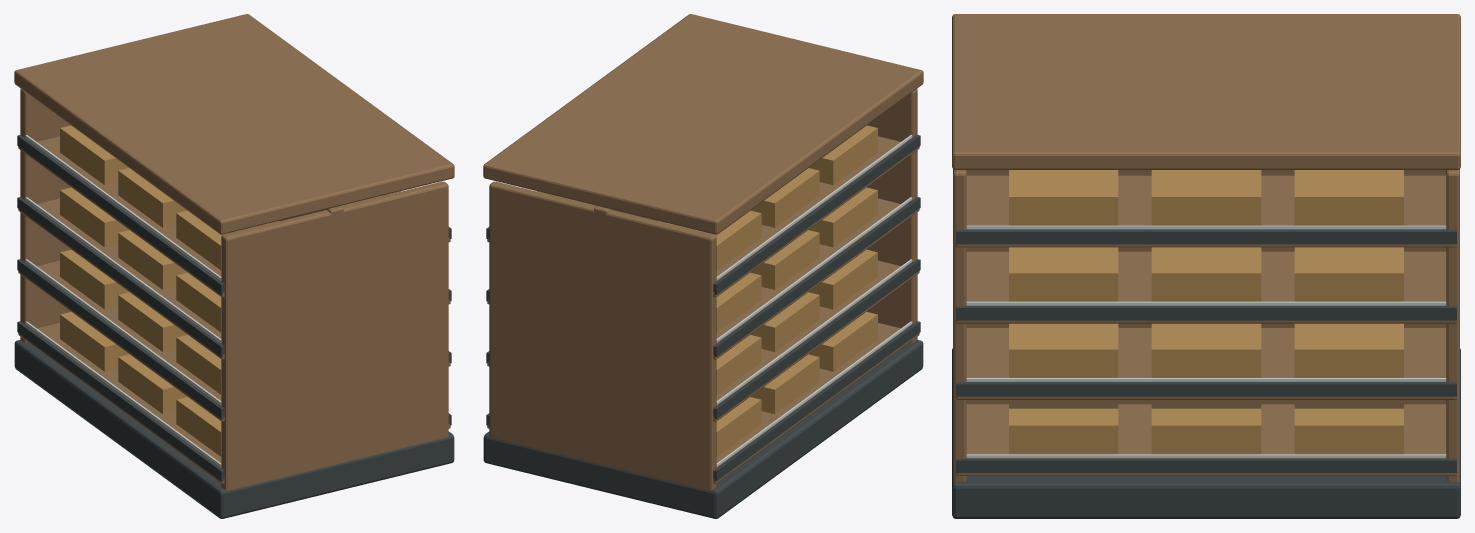
File: bakery-l0.glb
3 views of the same model, side by side, from view 1: azimuth 30°, elevation 25°; view 2: azimuth 150°, elevation 25°; view 3: azimuth 270°, elevation 25° (orthographic). The views are drawn at different scales.
Parts seen in each view (by area): view 1: bakery-l0_fixture_Oiled warm oak, bakery-l0_fixture_Powder-coated graphite, bakery-l0_fixture_bread, bakery-l0_fixture_Refrigerator enamel; view 2: bakery-l0_fixture_Oiled warm oak, bakery-l0_fixture_Powder-coated graphite, bakery-l0_fixture_bread, bakery-l0_fixture_Refrigerator enamel; view 3: bakery-l0_fixture_Oiled warm oak, bakery-l0_fixture_bread, bakery-l0_fixture_Powder-coated graphite, bakery-l0_fixture_Refrigerator enamel, bakery-l0_fixture_Oiled warm oak.001.
Part boxes in pixels (left/top/right/bottom): bakery-l0_fixture_Oiled warm oak: left=14, top=14, right=454, bottom=490; bakery-l0_fixture_Powder-coated graphite: left=14, top=135, right=454, bottom=518; bakery-l0_fixture_bread: left=60, top=125, right=397, bottom=456; bakery-l0_fixture_Refrigerator enamel: left=25, top=135, right=399, bottom=466; bakery-l0_fixture_Oiled warm oak: left=483, top=14, right=923, bottom=490; bakery-l0_fixture_Powder-coated graphite: left=483, top=135, right=923, bottom=518; bakery-l0_fixture_bread: left=540, top=125, right=877, bottom=456; bakery-l0_fixture_Refrigerator enamel: left=538, top=135, right=912, bottom=466; bakery-l0_fixture_Oiled warm oak: left=952, top=14, right=1460, bottom=481; bakery-l0_fixture_bread: left=1009, top=170, right=1403, bottom=454; bakery-l0_fixture_Powder-coated graphite: left=952, top=229, right=1460, bottom=518; bakery-l0_fixture_Refrigerator enamel: left=966, top=225, right=1446, bottom=457; bakery-l0_fixture_Oiled warm oak.001: left=1009, top=400, right=1403, bottom=408.
Bounding box in the file's own units: 1.7 × 2.07 × 2.6.
